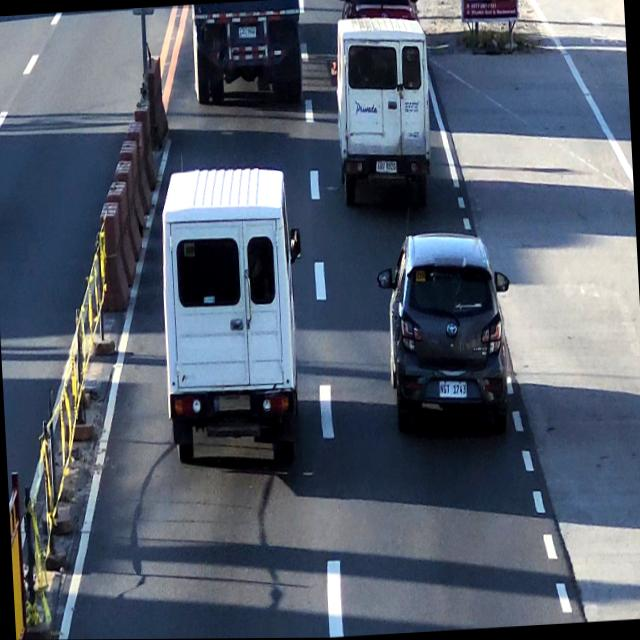Car: (162, 169, 304, 476), (384, 233, 512, 442), (334, 21, 429, 208)
License-Plate: (216, 390, 254, 416), (440, 377, 470, 401), (235, 21, 258, 43), (372, 159, 398, 175)
Truck: (192, 0, 302, 106)
